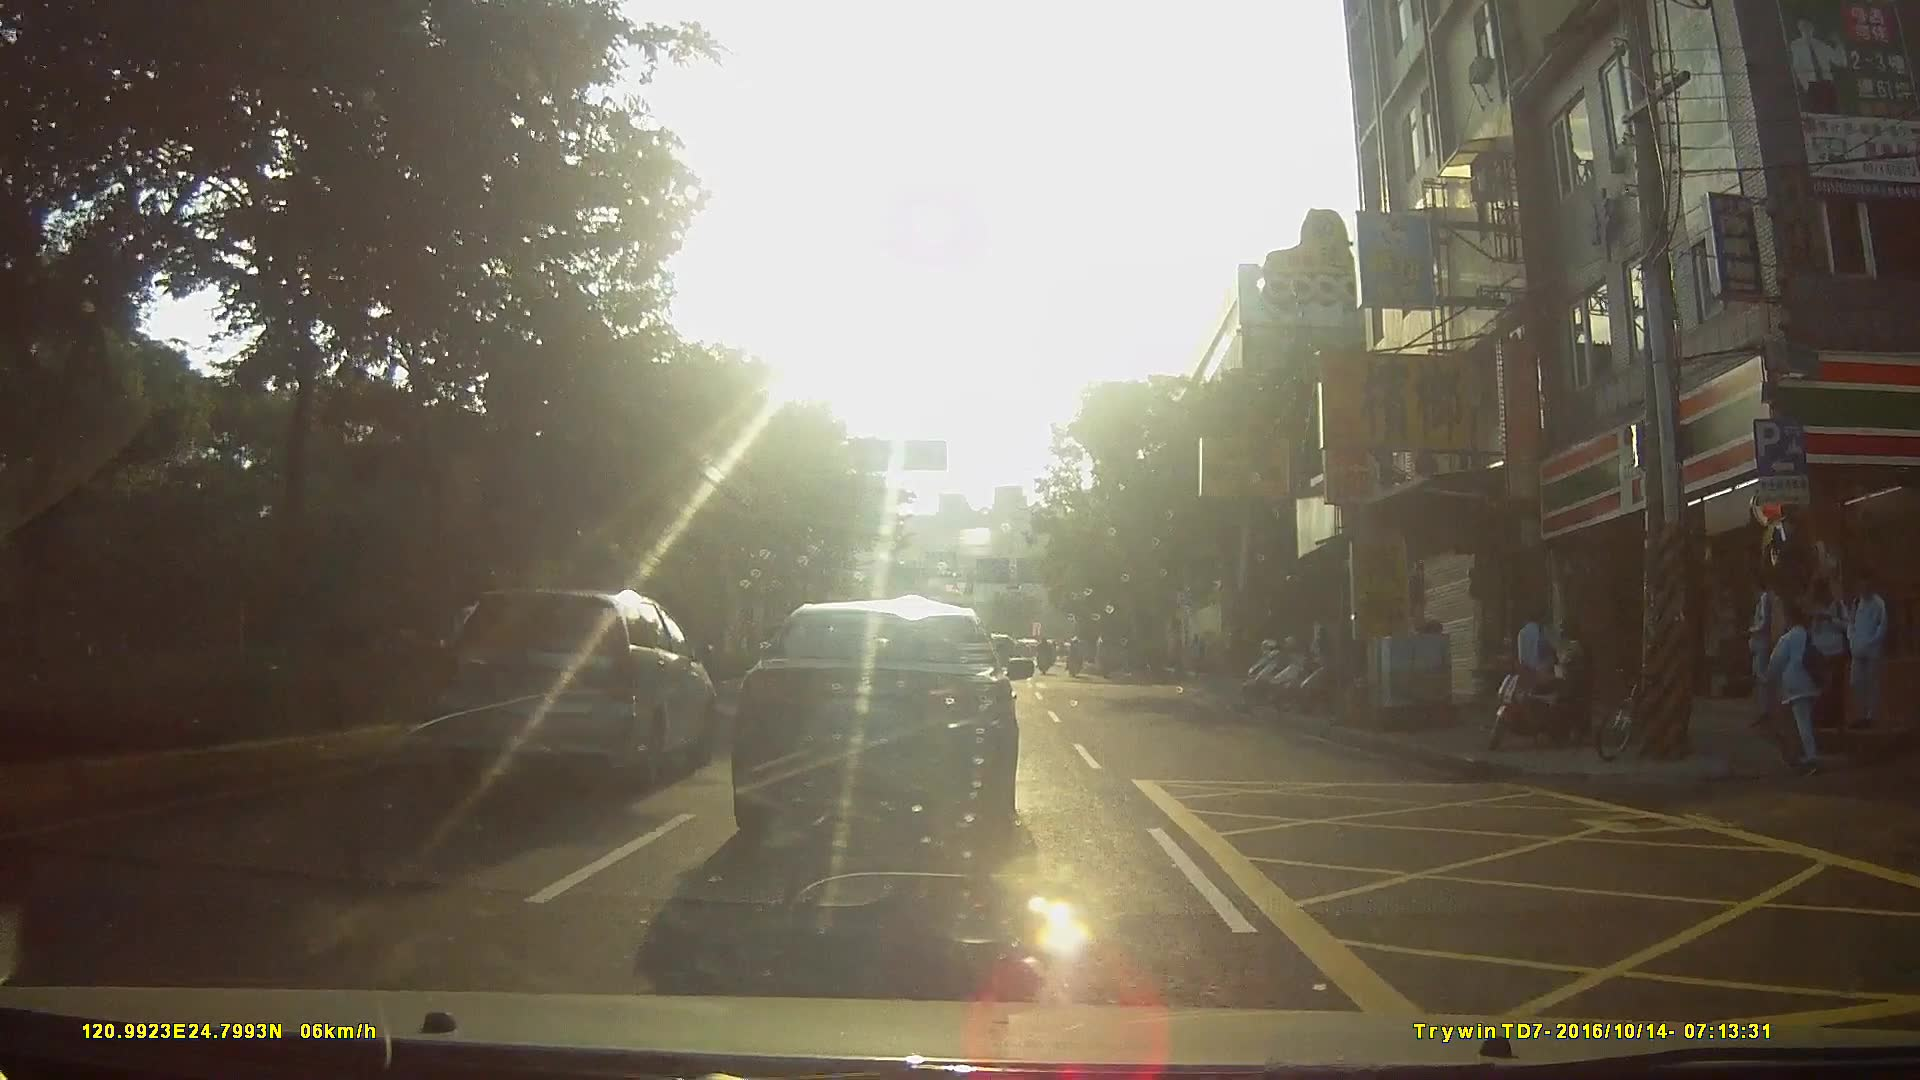pedestrian: (1775, 598, 1842, 775), (1743, 555, 1791, 746), (1838, 570, 1890, 727), (1544, 617, 1595, 751), (1513, 605, 1568, 719)
vehicle: (731, 600, 1042, 858), (419, 585, 731, 783)
